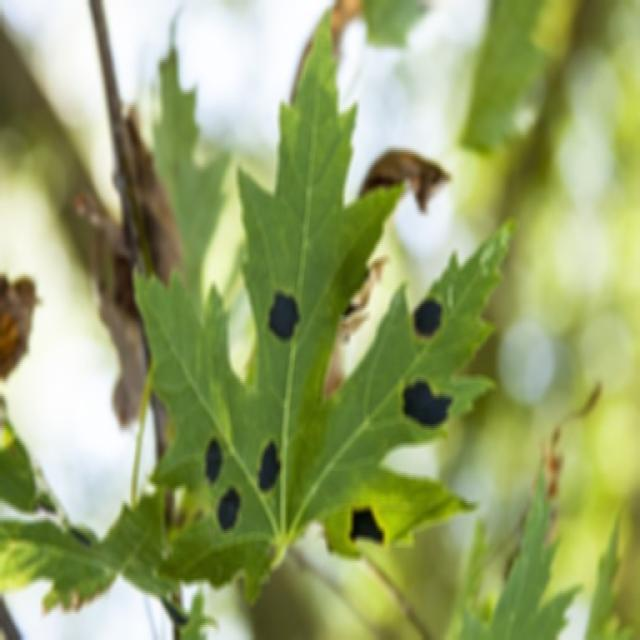Tar_Spot: (204, 160, 468, 572)
